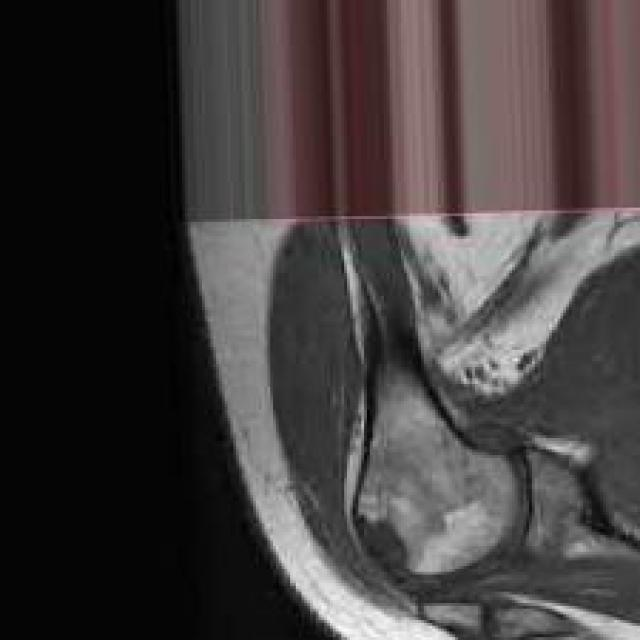Comminuted: (344, 500, 421, 574)
